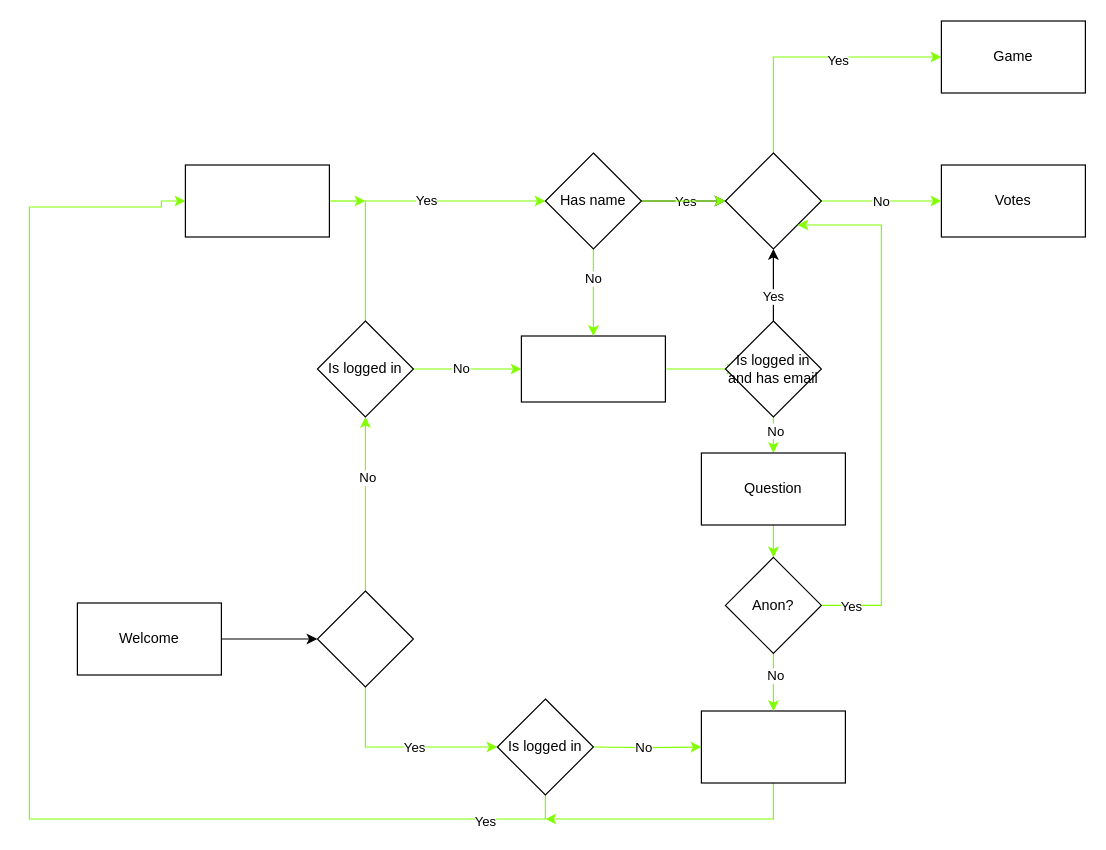
Some shapes in this 1106 by 850 pixel diagram are drawn without their labels. Here are the shapes that lost their labels. From the top down, the centre of each, then its label:
point 256,200: New game Loading
point 772,200: Has votes
point 592,368: Name
point 364,638: Hosting?
point 772,746: Login (use name if exists)
